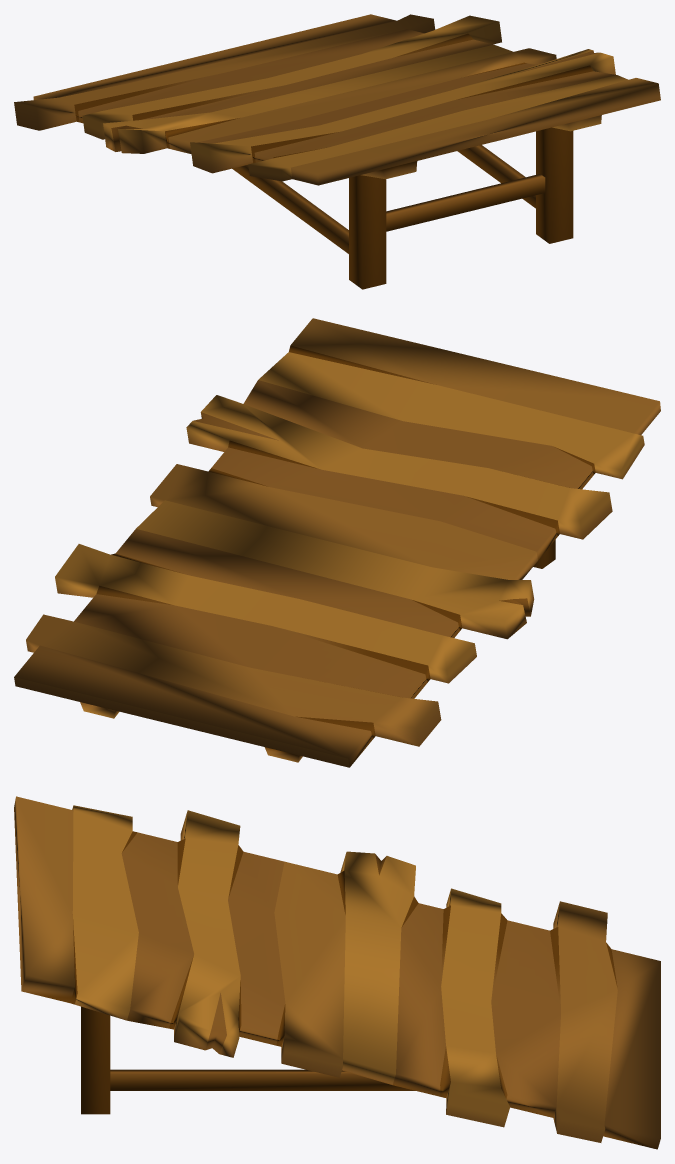
The model's file is rampTop.fbx.
The picture shows the model from 3 angles, top to bottom: view 1: azimuth 30°, elevation 25°; view 2: azimuth 150°, elevation 25°; view 3: azimuth 270°, elevation 25°; orthographic projection. The views are drawn at different scales.
Parts seen in each view (by area): view 1: rampTop; view 2: rampTop; view 3: rampTop.
Boxes of the visible parts, x1,y1,x2,y2 form: rampTop: [14, 14, 660, 289]; rampTop: [14, 318, 660, 767]; rampTop: [14, 796, 660, 1149].
Bounding box in the file's own units: 474 × 183 × 590.
